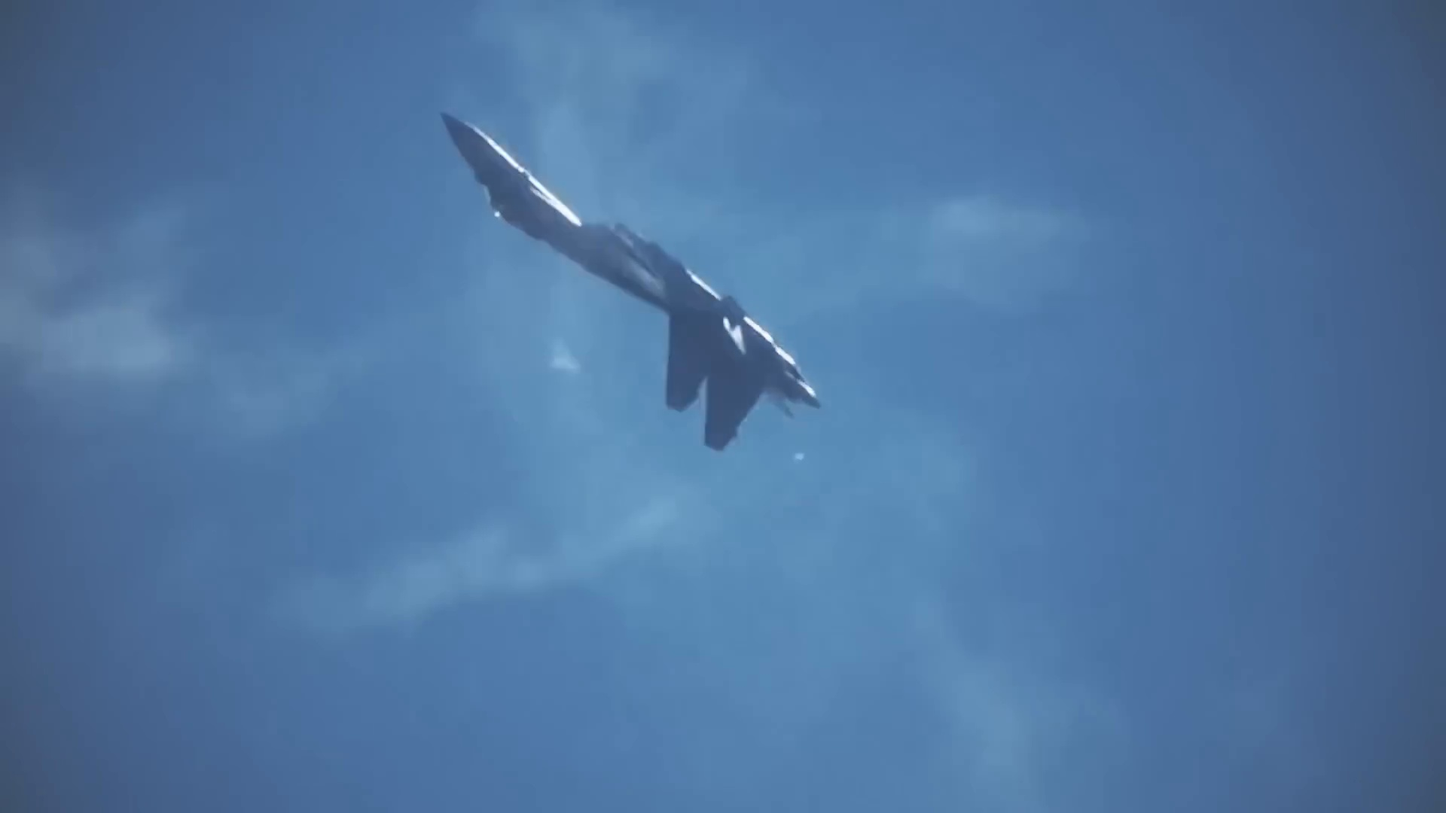Su35: (433, 110, 823, 454)
